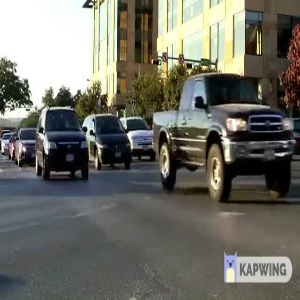truck: (149, 70, 299, 200)
van: (28, 107, 95, 181), (79, 113, 134, 171)
